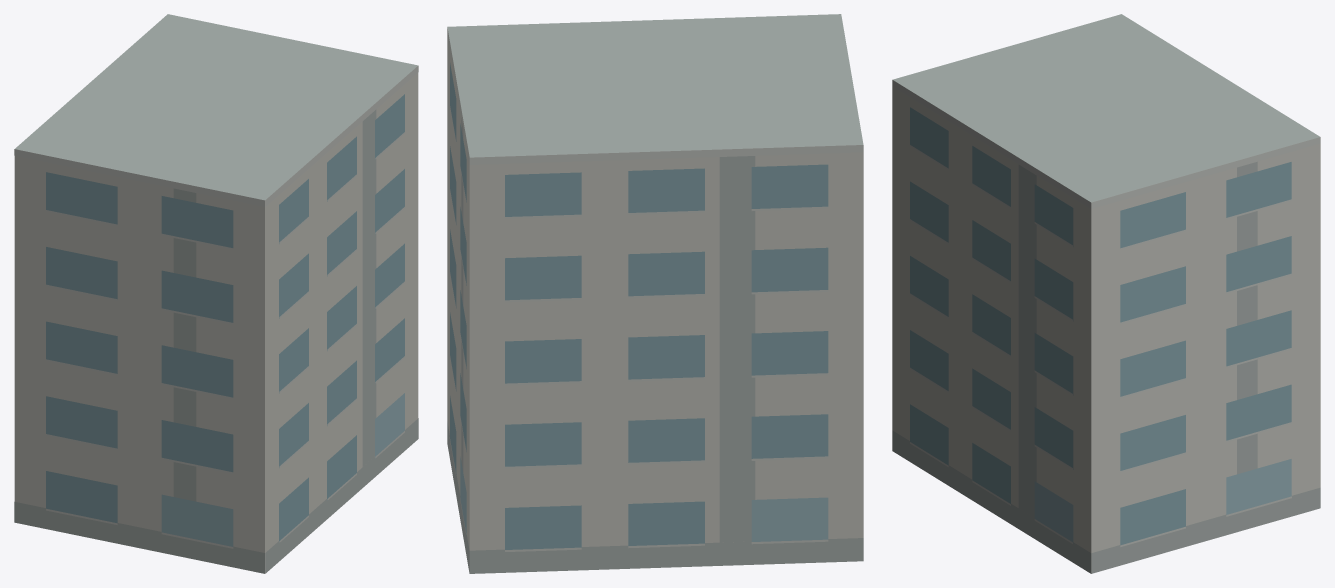
Rendered from survey-upis-32892624.glb.
The picture shows the model from 3 angles, left to right: view 1: azimuth 30°, elevation 25°; view 2: azimuth 150°, elevation 25°; view 3: azimuth 270°, elevation 25°; orthographic projection. The views are drawn at different scales.
Visible parts, largest first — view 1: survey-upis-32892624.tmp; view 2: survey-upis-32892624.tmp; view 3: survey-upis-32892624.tmp.
Part boxes in pixels (left/top/right/bottom): survey-upis-32892624.tmp: left=14, top=14, right=418, bottom=573; survey-upis-32892624.tmp: left=447, top=14, right=863, bottom=573; survey-upis-32892624.tmp: left=892, top=14, right=1320, bottom=573.
Size of the model in its own units: 14.71 by 13.5 by 14.12.
